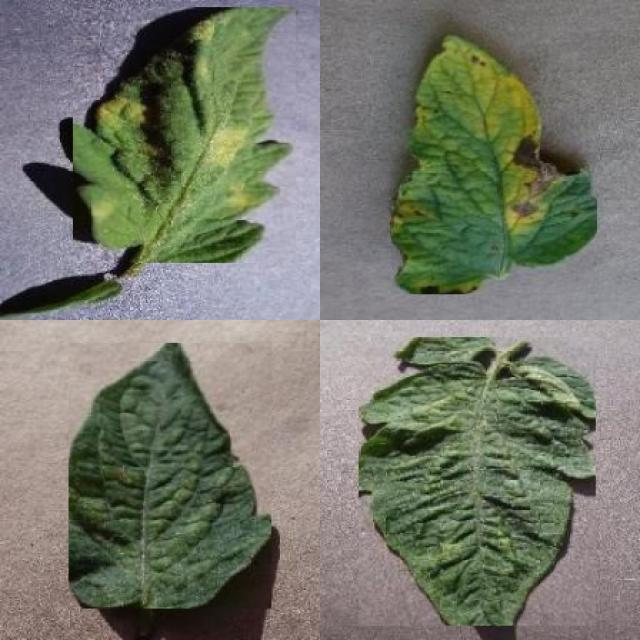Early Blight: (392, 32, 597, 294)
Leaf Mold: (74, 7, 296, 263)
Spider Mites: (358, 338, 596, 626), (68, 342, 272, 609)
